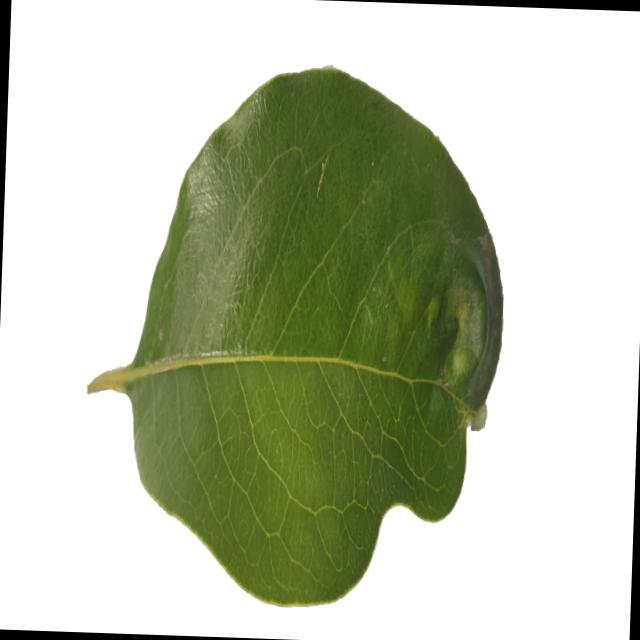Medicinal-Sandalwood: (76, 54, 511, 616)
